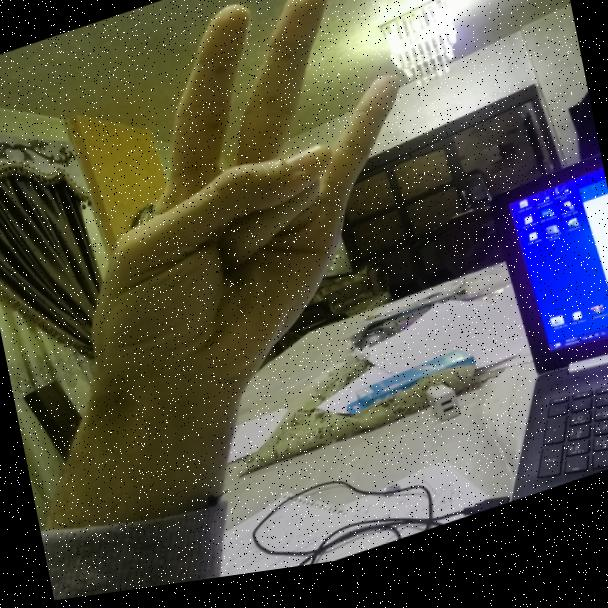five: (17, 0, 467, 436)
